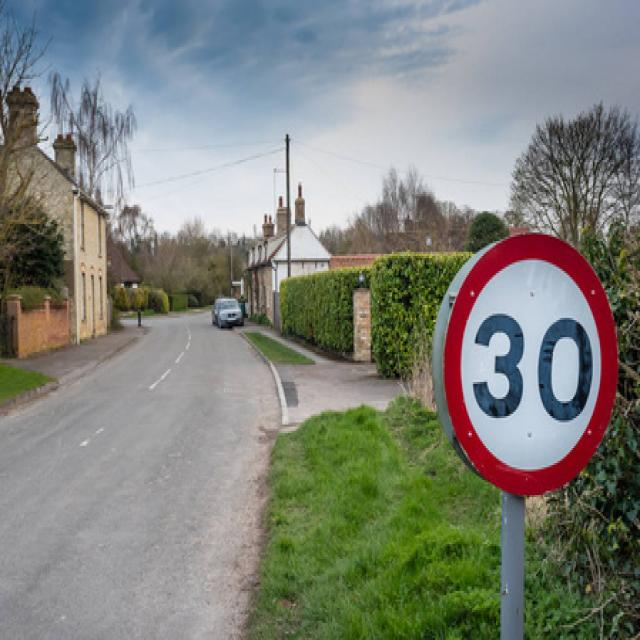speed limit 30: (441, 237, 616, 498)
